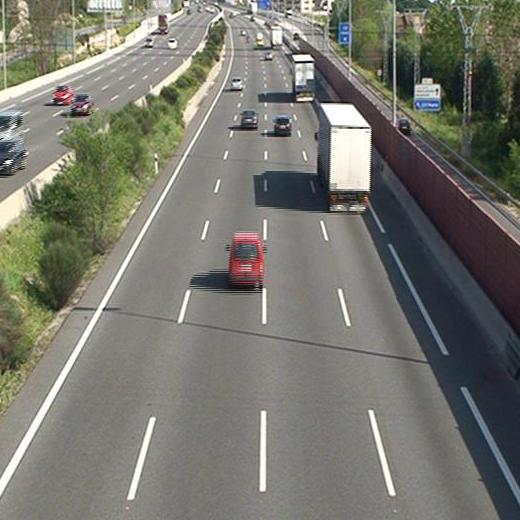car: (240, 111, 258, 128), (274, 118, 292, 134), (229, 78, 242, 90), (264, 52, 271, 60)
truck: (318, 104, 372, 211), (291, 56, 314, 100)
van: (229, 233, 264, 285)
